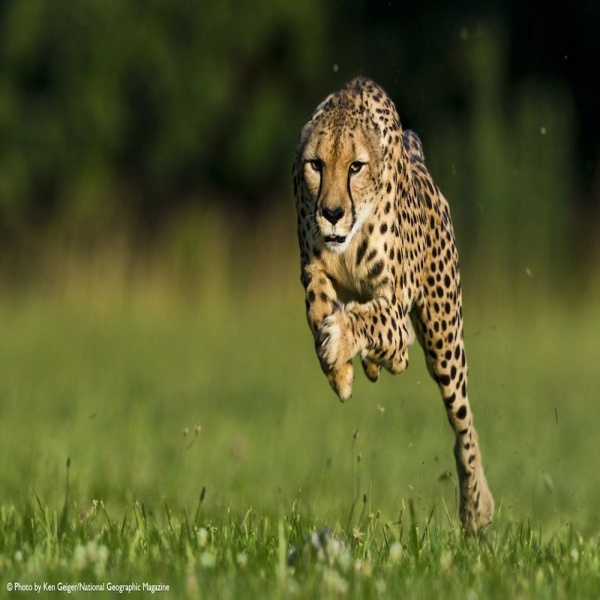Cheetah: (289, 71, 505, 534)
